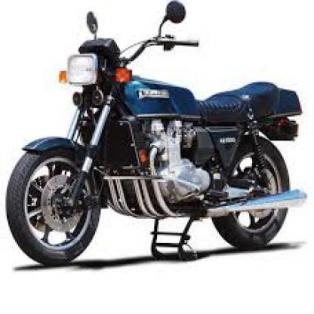Motocicleta: (1, 0, 308, 268)
